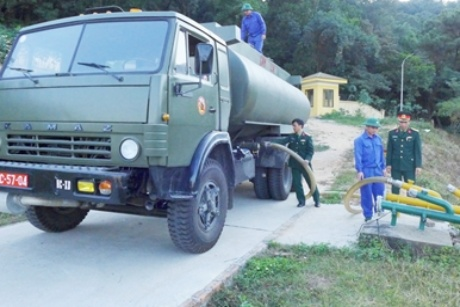plate: (1, 169, 32, 193)
